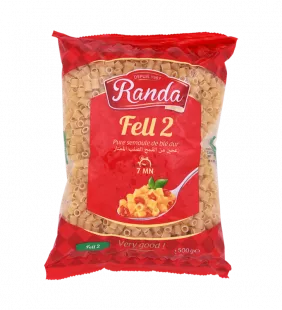RANDA: (35, 19, 245, 292)
